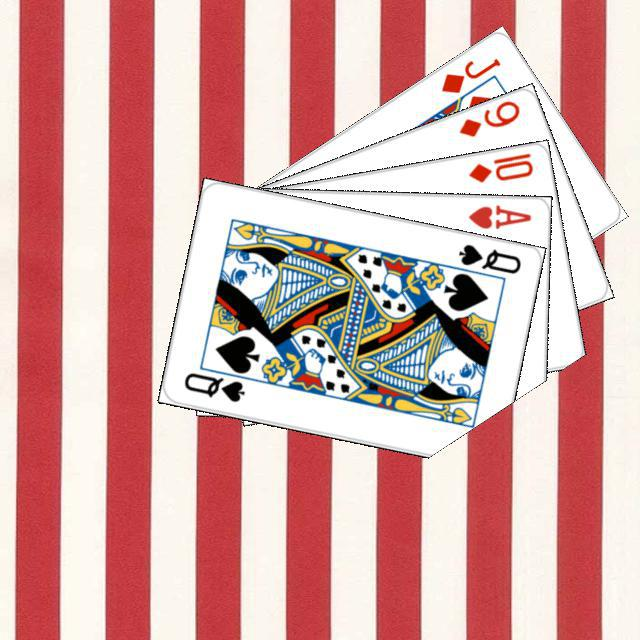10d: (463, 148, 535, 184)
9d: (454, 96, 522, 139)
Ah: (463, 200, 533, 230)
Jd: (436, 53, 503, 96)
Qs: (454, 239, 523, 276), (179, 367, 247, 404)
